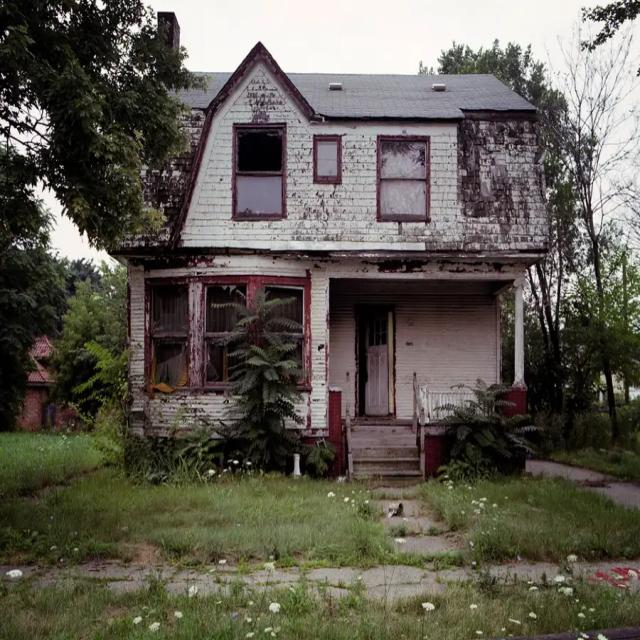House: (119, 10, 552, 491)
